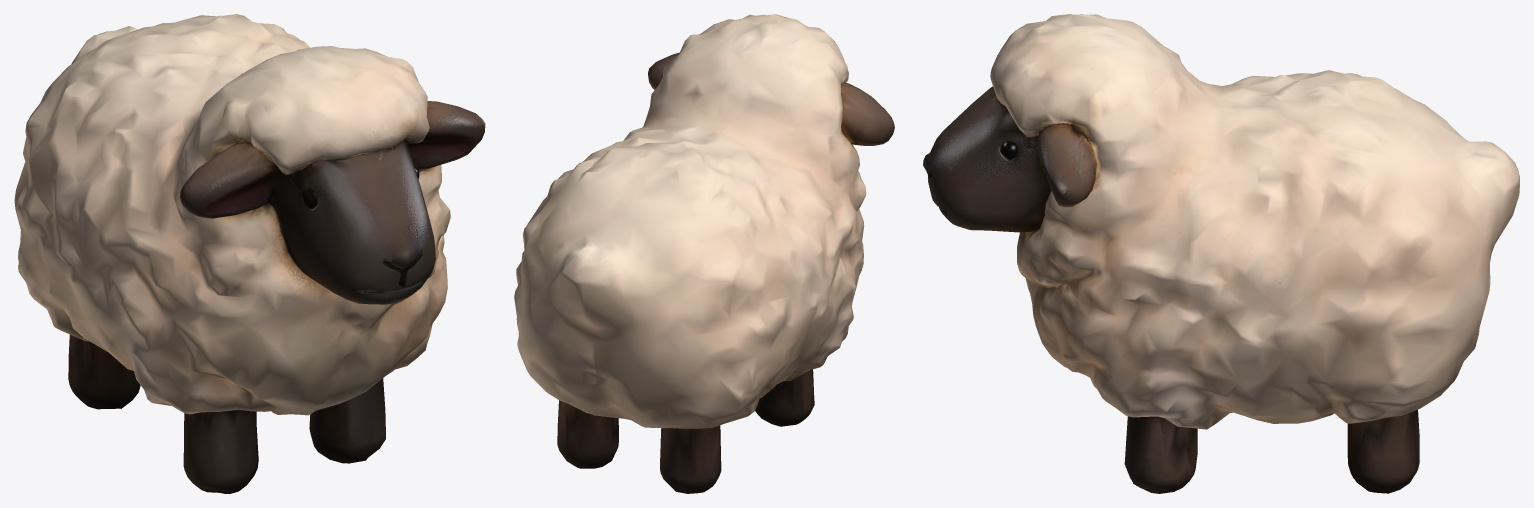
File: sheep.glb
3 views of the same model, side by side, from view 1: azimuth 30°, elevation 25°; view 2: azimuth 150°, elevation 25°; view 3: azimuth 270°, elevation 25° (orthographic). The views are drawn at different scales.
Visible parts, largest first — view 1: tripo_node_d3e6f3f8-c84a-49a4-beb0-bd18b1d74050; view 2: tripo_node_d3e6f3f8-c84a-49a4-beb0-bd18b1d74050; view 3: tripo_node_d3e6f3f8-c84a-49a4-beb0-bd18b1d74050.
Boxes of the visible parts, x1,y1,x2,y2 form: tripo_node_d3e6f3f8-c84a-49a4-beb0-bd18b1d74050: (14, 14, 485, 493); tripo_node_d3e6f3f8-c84a-49a4-beb0-bd18b1d74050: (514, 14, 894, 493); tripo_node_d3e6f3f8-c84a-49a4-beb0-bd18b1d74050: (923, 14, 1519, 493).
Bounding box in the file's own units: 0.6079 × 0.7902 × 0.9997.
1 material, 1 textured.
